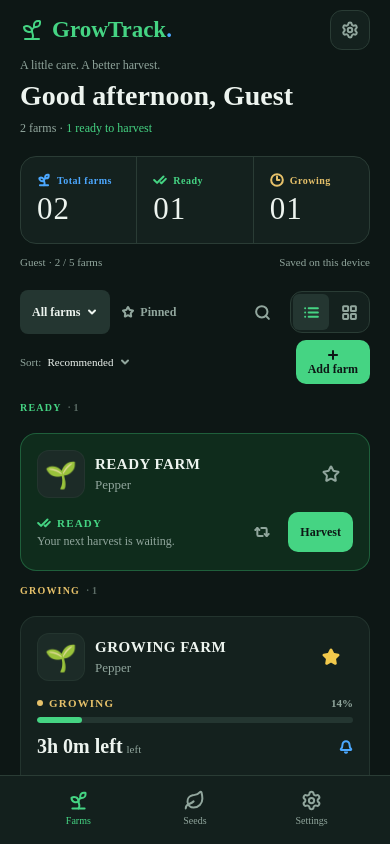
Test: DashboardScreen Toolbar & Filter Dropdown › opens sort dropdown menu showing "SORT BY" and all 8 options when clicked
Expected: the text "SORT BY" is not shown
Click sort button to open dropdown
Click the button with aria-label "Sort farms: Recommended": (76, 362) [20,344,131,380]
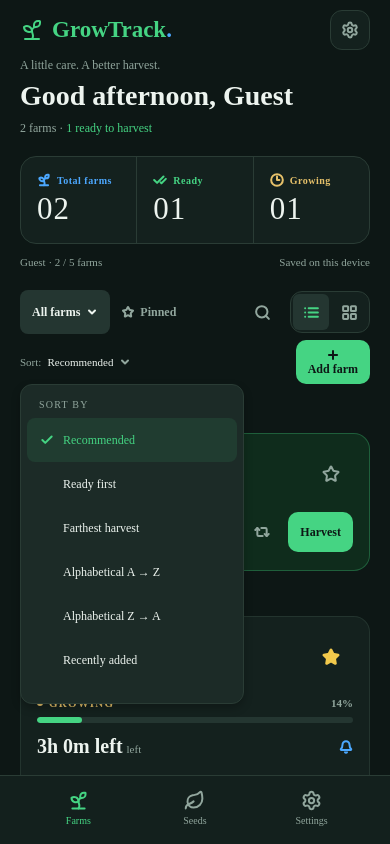
Now the text "SORT BY" is shown, box [39,399,89,410]
Now the text "Ready first" is shown, box [63,476,116,492]
Now the text "Farthest harvest" is shown, box [63,520,139,536]
